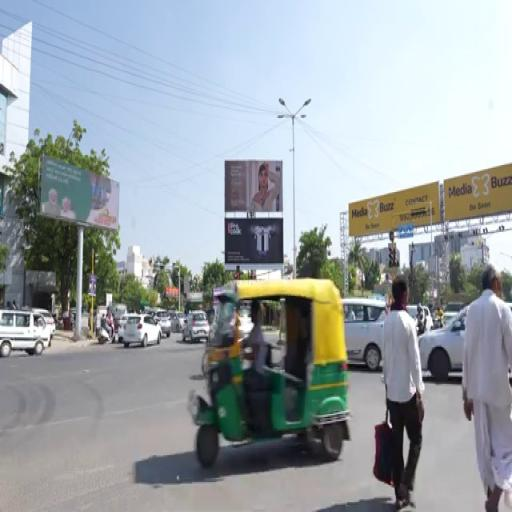Car: (419, 308, 467, 381), (342, 298, 386, 371), (0, 309, 48, 356), (123, 315, 161, 347), (32, 309, 55, 347), (33, 309, 55, 347), (182, 312, 209, 342), (118, 313, 138, 342), (239, 306, 253, 338), (154, 311, 171, 337), (444, 302, 463, 324), (422, 306, 433, 331), (423, 306, 433, 331), (175, 312, 186, 332), (168, 312, 177, 332)
